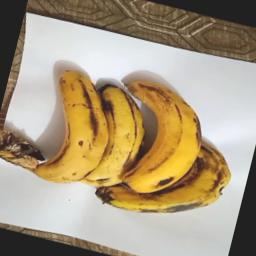Banana Unripe: (5, 50, 256, 238)
